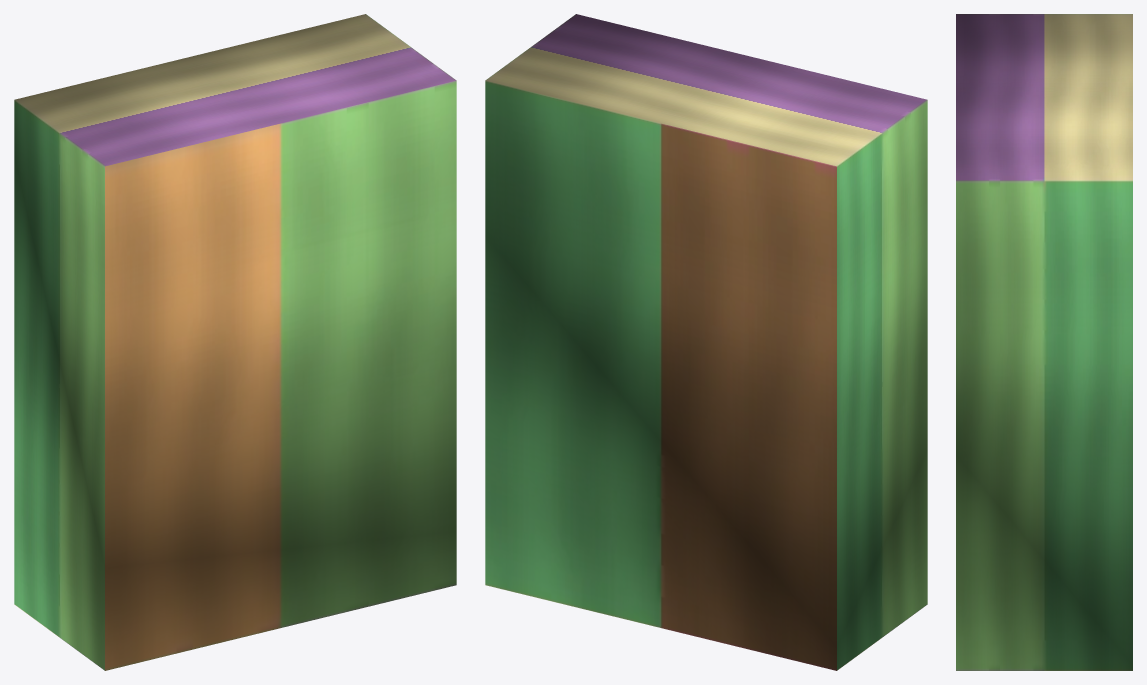
File: windmill_small.glb
3 views of the same model, side by side, from view 1: azimuth 30°, elevation 25°; view 2: azimuth 150°, elevation 25°; view 3: azimuth 270°, elevation 25° (orthographic). The views are drawn at different scales.
Visible parts, largest first — view 1: col; view 2: col; view 3: col.
Boxes of the visible parts, <box> form: col: <box>14,14,456,670</box>; col: <box>485,14,927,670</box>; col: <box>956,14,1132,670</box>.
Size of what is drawn, in the model's own units: 3.01 by 4.13 by 1.35.
Materials: 1 (1 with a texture image).
